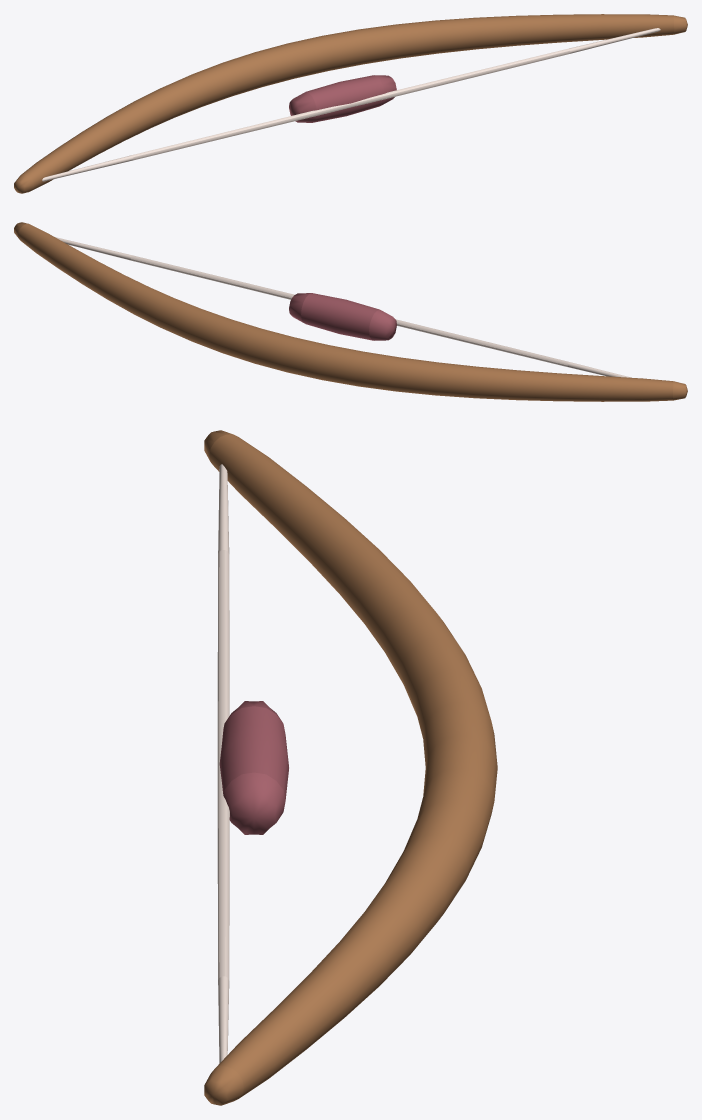
File: weapon_bow.glb
The picture shows the model from 3 angles, top to bottom: view 1: azimuth 30°, elevation 25°; view 2: azimuth 150°, elevation 25°; view 3: azimuth 270°, elevation 25°; orthographic projection. The views are drawn at different scales.
Parts seen in each view (by area): view 1: weapon_bow; view 2: weapon_bow; view 3: weapon_bow.
Part boxes in pixels (x1=…): weapon_bow: x1=14, y1=14, x2=687, y2=193; weapon_bow: x1=14, y1=222, x2=687, y2=401; weapon_bow: x1=204, y1=430, x2=497, y2=1105.
Bounding box in the file's own units: 0.9228 × 0.043 × 0.1746.
